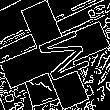M_SW: (23, 24, 87, 86)
